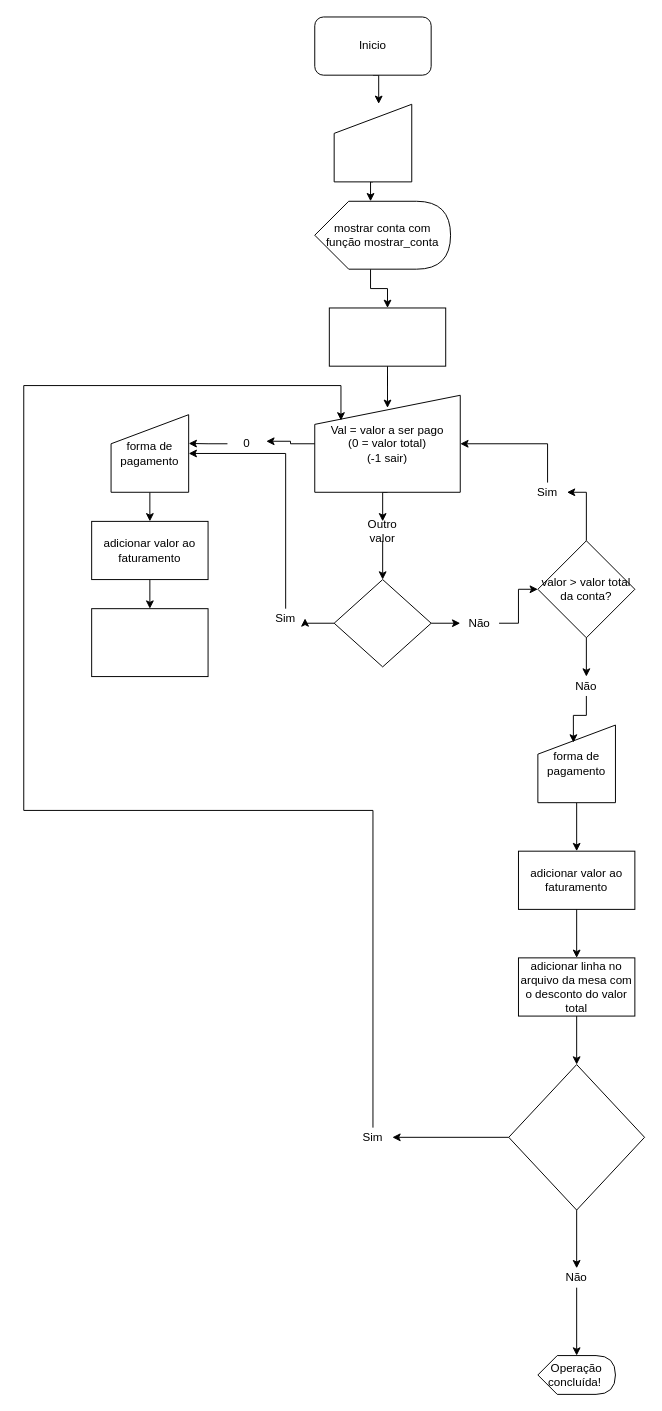
The diagram is 662 pixels wide and 1411 high, and some of its shapes have lost their labels. The centre of each missing label's shape, as x and y in pixels:
Adicionar mais um pagamento à mesa?: point (576, 1137)
fechar arquivo da mesa e retirar numero da mesa do arquivo "mesas_abertas": point (149, 642)
guarda o valor total da conta: point (387, 336)
Receber numero_mesa: point (372, 142)
valor == valor total da conta?: point (382, 623)
